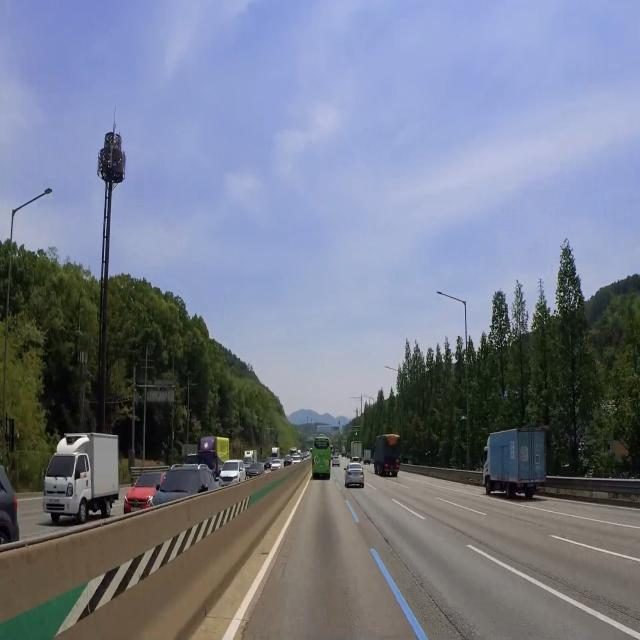car: (47, 493, 64, 511), (350, 472, 361, 481), (318, 461, 326, 472)
